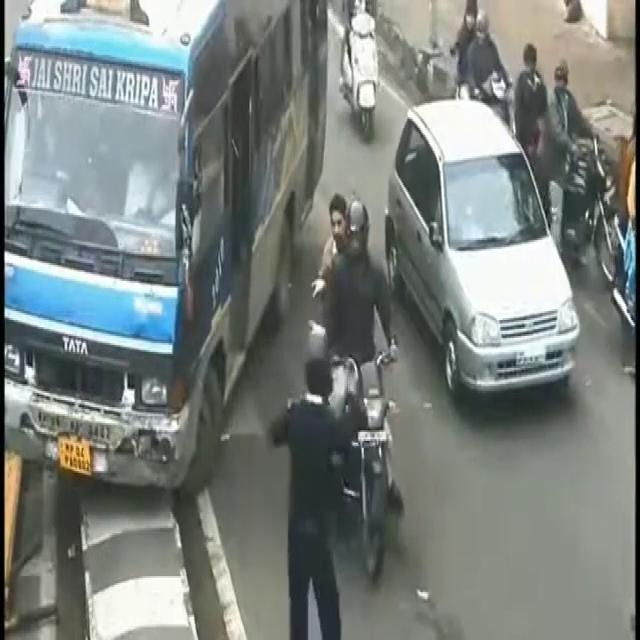accident: (0, 0, 294, 598)
